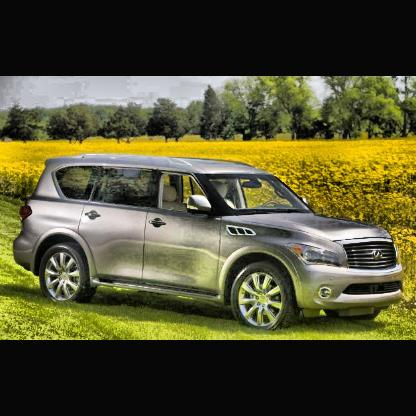Infiniti QX56 SUV 2011: (13, 155, 406, 334)
